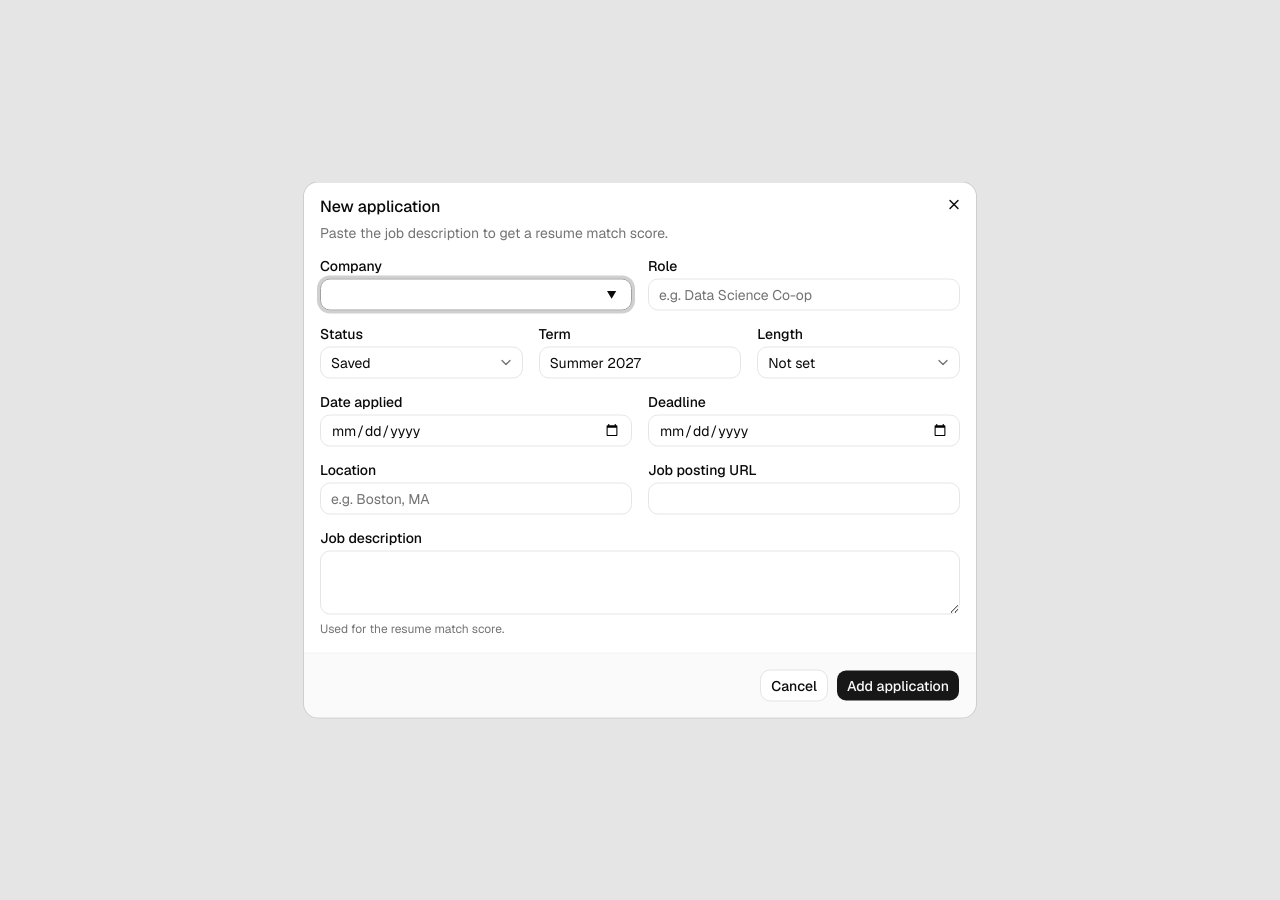
Test: ApplicationFormDialog › shows the server's validation message under the field
Click the button "Add application": [898, 686] box [836,670,960,702]
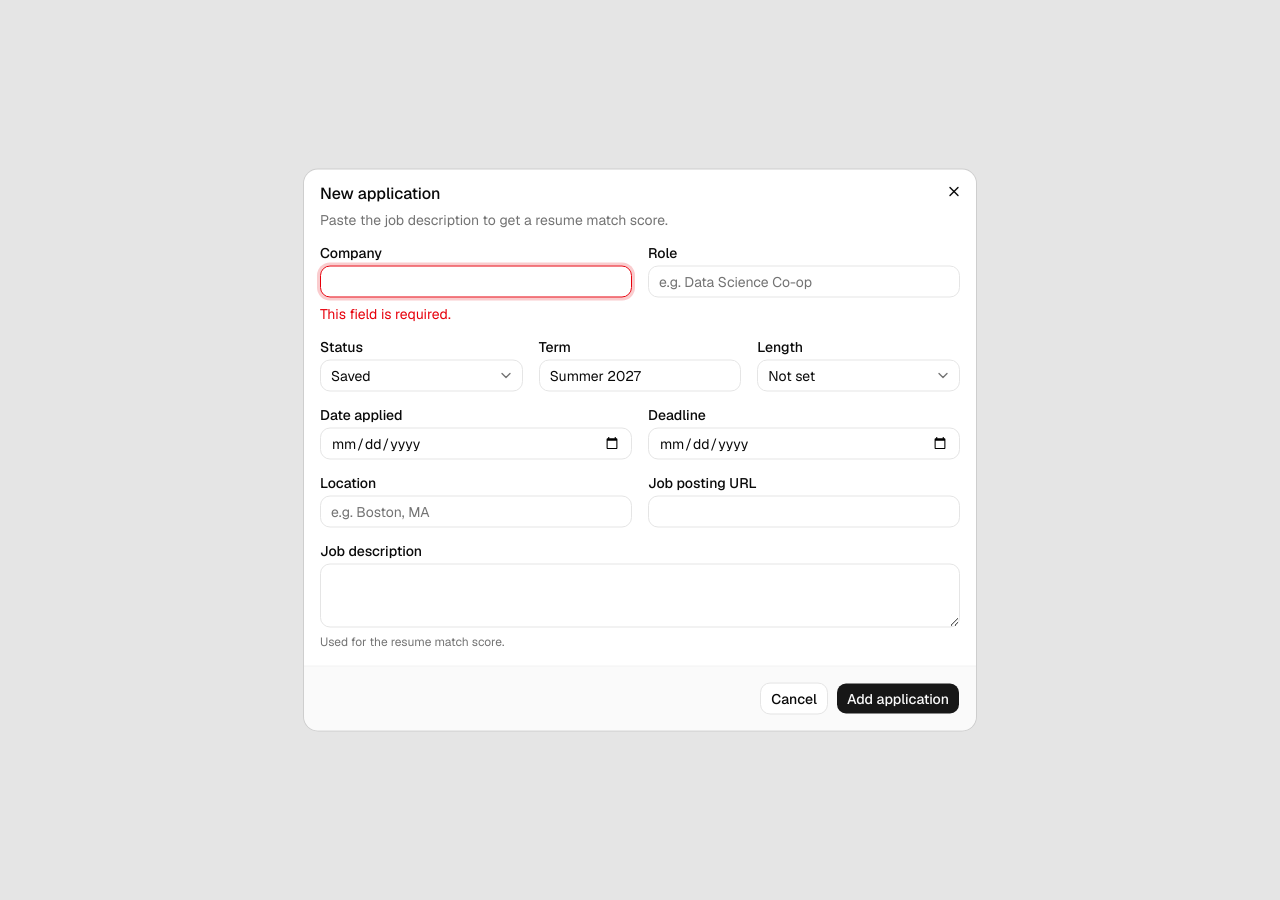
Expected: the text "This field is required." is shown, [320,304,451,322]
